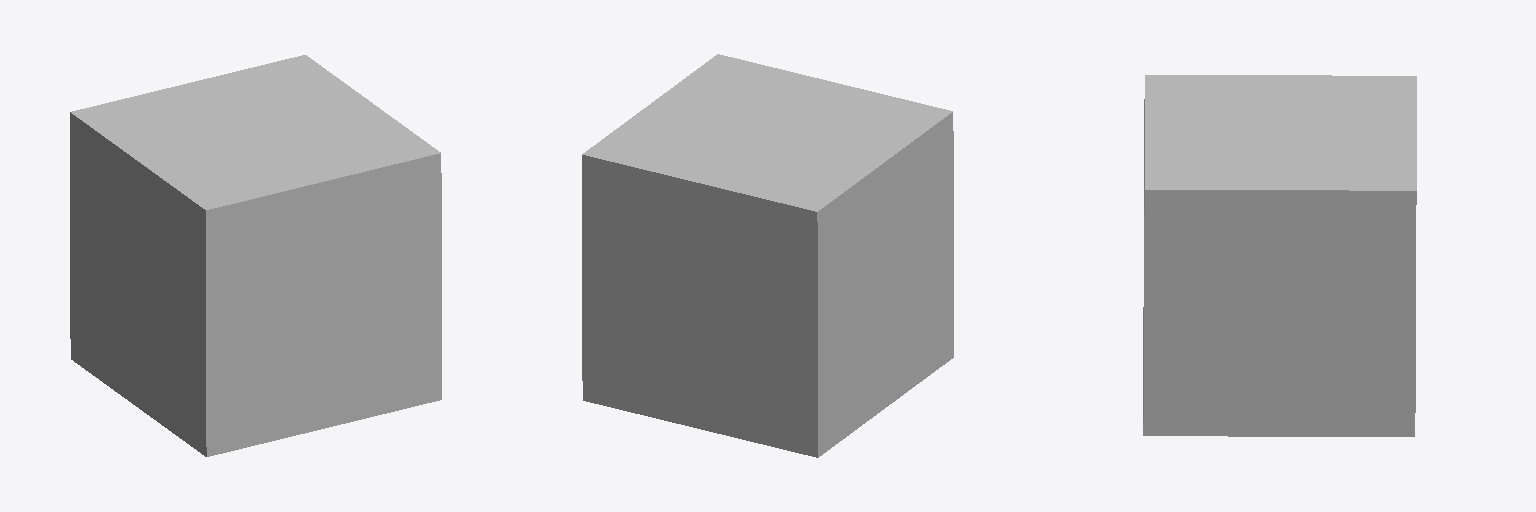
Rendered from Arrow_cube_bottle.obj.
The picture shows the model from 3 angles: view 1: azimuth 30°, elevation 25°; view 2: azimuth 150°, elevation 25°; view 3: azimuth 270°, elevation 25°; orthographic projection.
Parts seen in each view (by area): view 1: Cap.001_Cube.004; view 2: Cap.001_Cube.004; view 3: Cap.001_Cube.004.
Part boxes in pixels (x1,y1,x2,y2): Cap.001_Cube.004: (70,55,441,456); Cap.001_Cube.004: (582,54,953,457); Cap.001_Cube.004: (1143,75,1416,436).
Bounding box in the file's own units: 0.08 × 0.0803 × 0.0803.